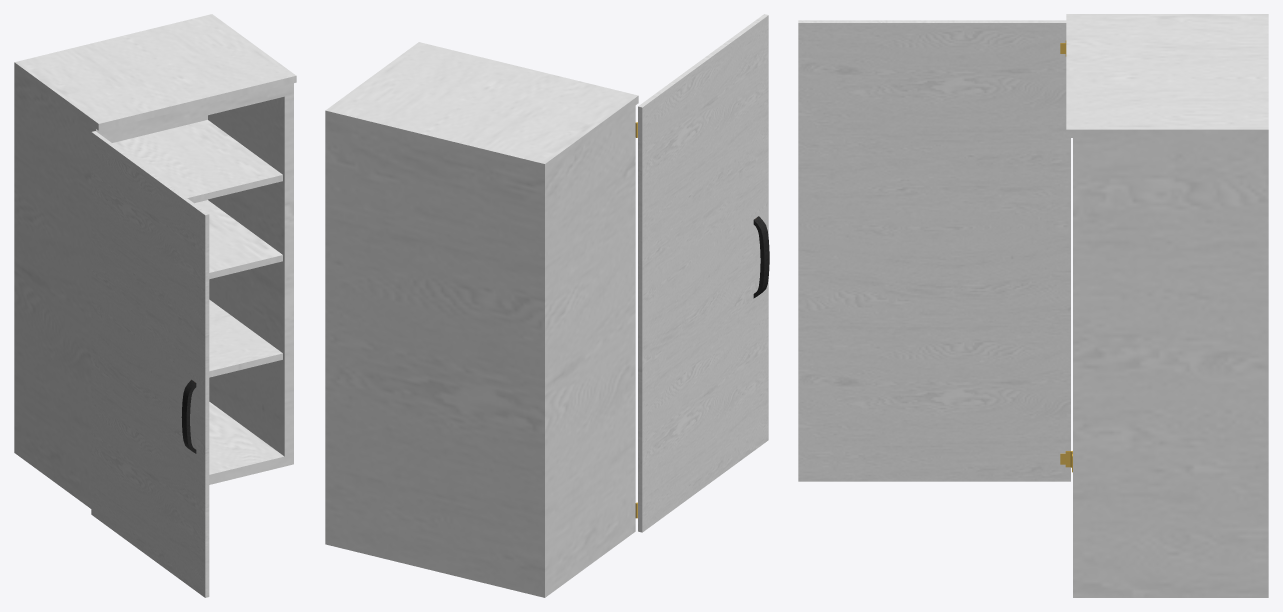
File: Closet45.fbx
3 views of the same model, side by side, from view 1: azimuth 30°, elevation 25°; view 2: azimuth 150°, elevation 25°; view 3: azimuth 270°, elevation 25° (orthographic). The views are drawn at different scales.
Visible parts, largest first — view 1: Closet45, Closet45Door; view 2: Closet45, Closet45Door; view 3: Closet45Door, Closet45.
Boxes of the visible parts, <box> form: Closet45: <box>14,14,296,508</box>; Closet45Door: <box>91,131,209,597</box>; Closet45: <box>325,42,638,597</box>; Closet45Door: <box>635,14,769,532</box>; Closet45Door: <box>798,20,1072,481</box>; Closet45: <box>1066,14,1268,597</box>.
Bounding box in the file's own units: 66.96 × 117 × 107.
